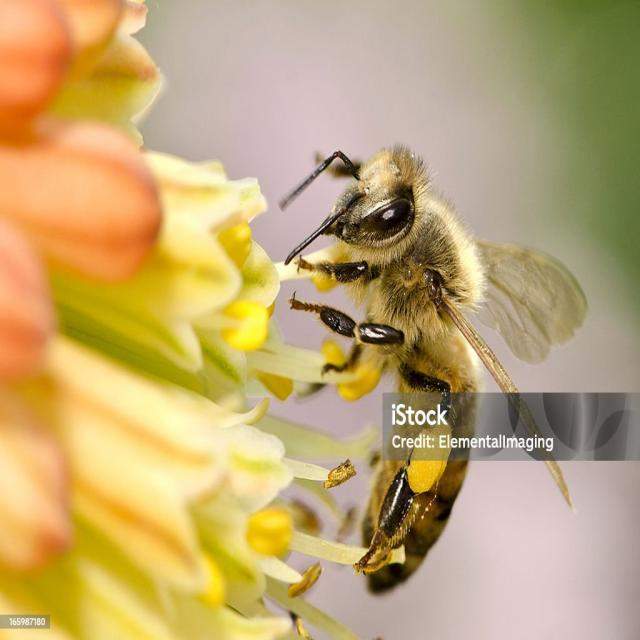bee: (277, 143, 588, 597)
